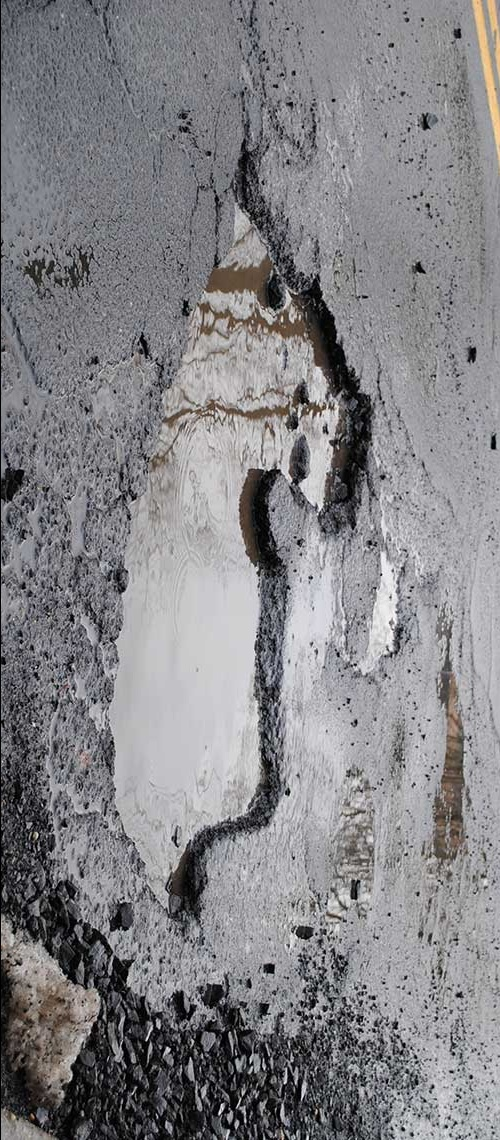pothole: (92, 169, 367, 947), (336, 546, 425, 719)
